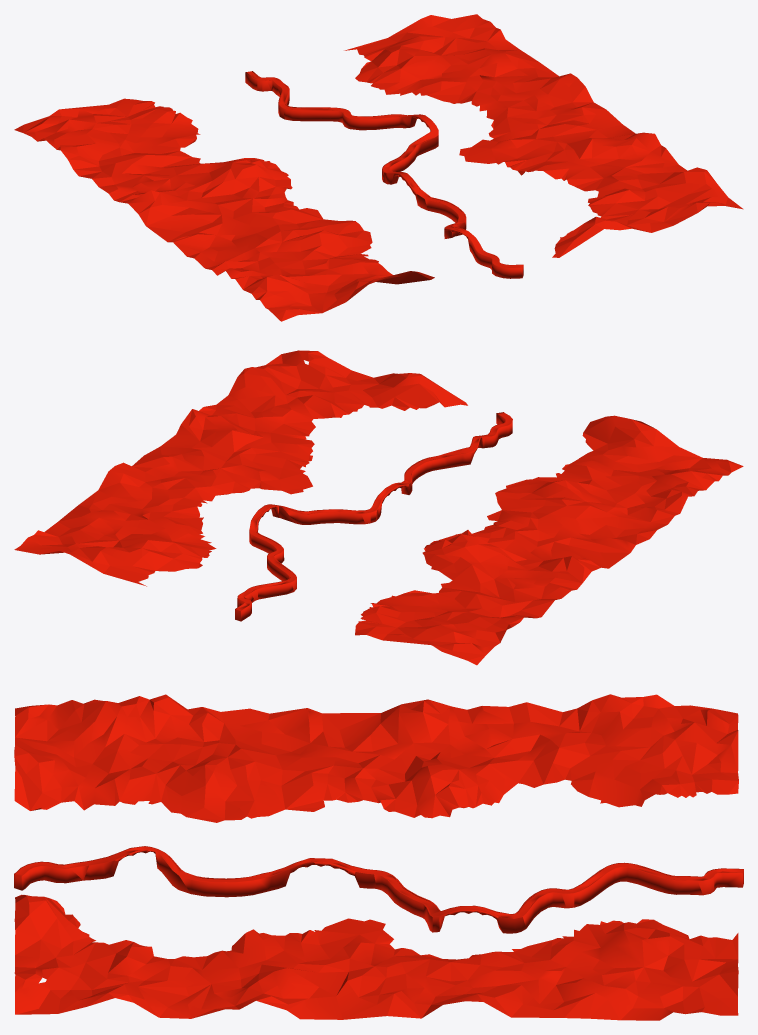
The model's file is placementarea_land.fbx.
3 renders of one model, top to bottom at view 1: azimuth 30°, elevation 25°; view 2: azimuth 150°, elevation 25°; view 3: azimuth 270°, elevation 25°, orthographic. The views are drawn at different scales.
Visible parts, largest first — view 1: wholemap.001; view 2: wholemap.001; view 3: wholemap.001.
Part boxes in pixels (left/top/right/bottom): wholemap.001: left=14, top=14, right=743, bottom=321; wholemap.001: left=14, top=350, right=743, bottom=665; wholemap.001: left=14, top=694, right=743, bottom=1020.
Bounding box in the file's own units: 61819 × 4425 × 62319.
